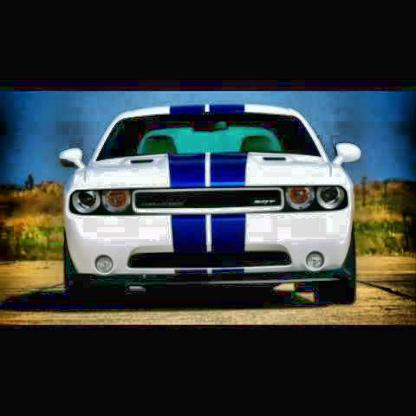Dodge Challenger SRT8 2011: (54, 103, 365, 304)
